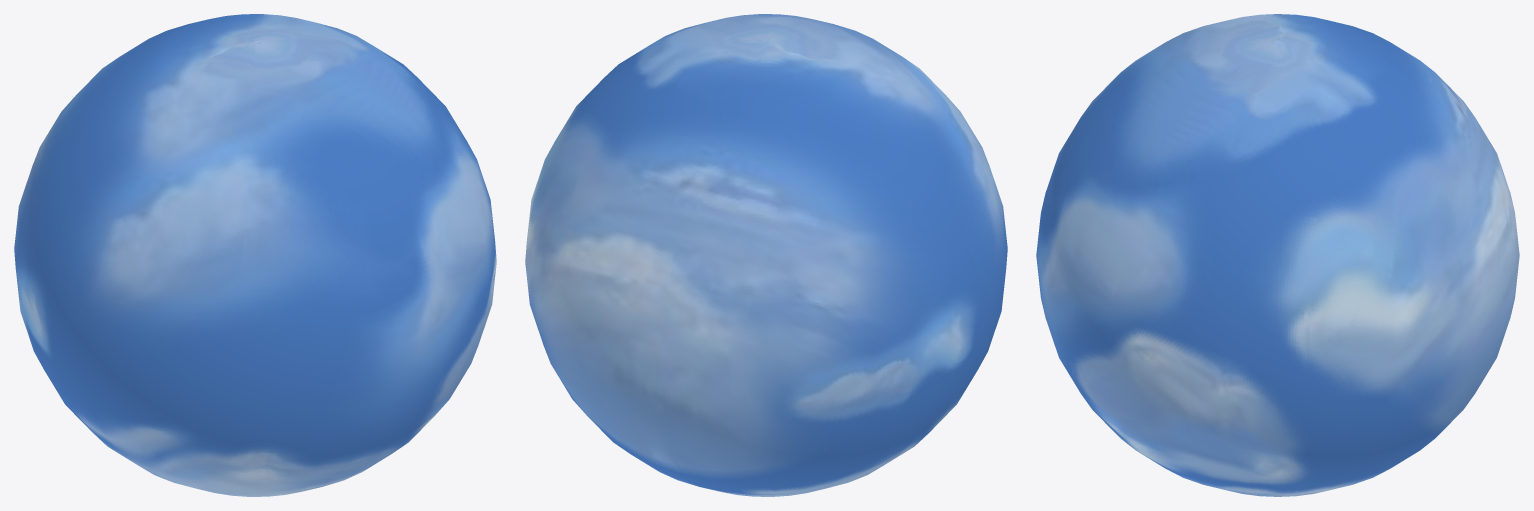
File: sky.glb
The picture shows the model from 3 angles, left to right: view 1: azimuth 30°, elevation 25°; view 2: azimuth 150°, elevation 25°; view 3: azimuth 270°, elevation 25°; orthographic projection.
Parts seen in each view (by area): view 1: Sphere; view 2: Sphere; view 3: Sphere.
Boxes of the visible parts, x1=… form: Sphere: x1=14, y1=14, x2=496, y2=496; Sphere: x1=525, y1=14, x2=1007, y2=496; Sphere: x1=1036, y1=14, x2=1519, y2=496.
Size of the model in its own units: 2 by 1.96 by 2.
Materials: 1 (1 with a texture image).
